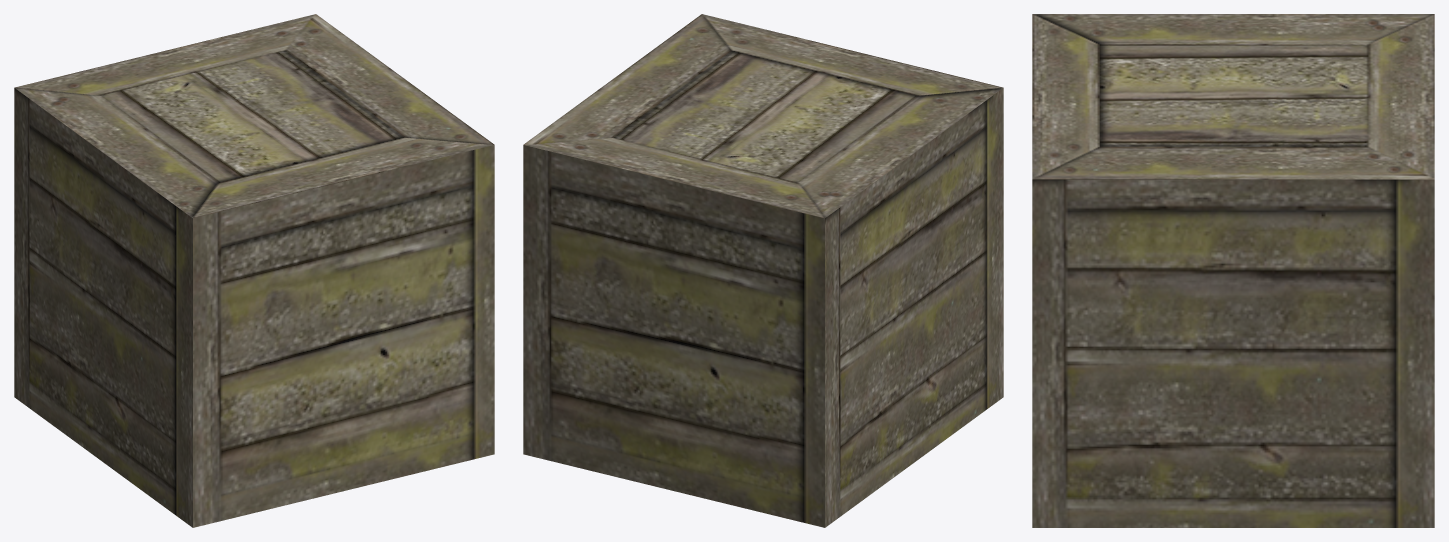
The picture shows the model from 3 angles, left to right: view 1: azimuth 30°, elevation 25°; view 2: azimuth 150°, elevation 25°; view 3: azimuth 270°, elevation 25°; orthographic projection. The views are drawn at different scales.
Visible parts, largest first — view 1: Box002; view 2: Box002; view 3: Box002.
Part boxes in pixels (x1,y1,x2,y2): Box002: [14, 14, 494, 527]; Box002: [523, 14, 1003, 527]; Box002: [1032, 14, 1434, 527].
Size of the model in its own units: 85.07 by 83.36 by 87.24.
